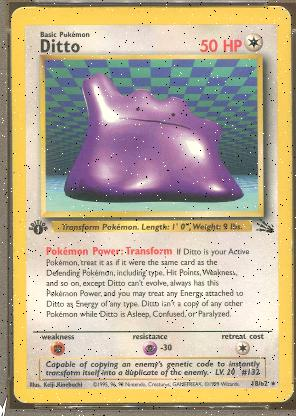Card: (6, 3, 294, 408)
